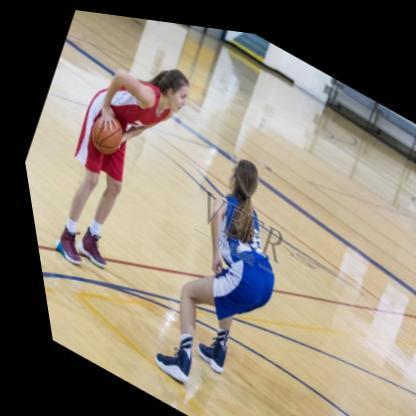basketball: (78, 104, 127, 158)
